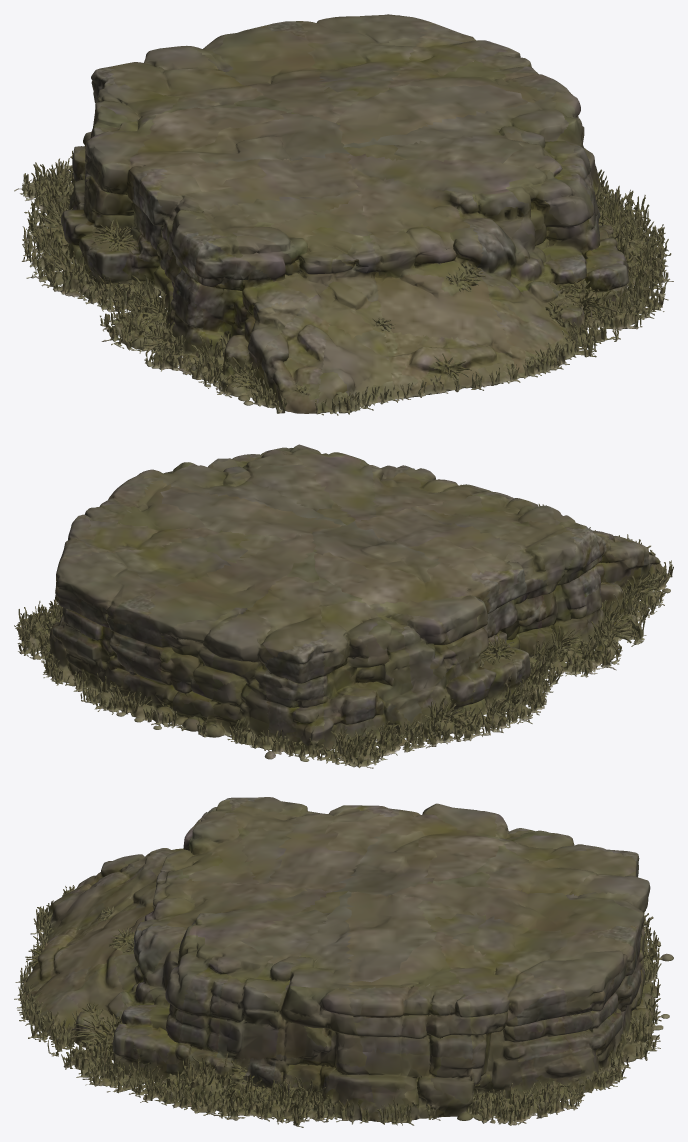
The model's file is Meshy_AI_rocky_ledge_0823030557_image-to-3d-texture.glb.
The picture shows the model from 3 angles, top to bottom: view 1: azimuth 30°, elevation 25°; view 2: azimuth 150°, elevation 25°; view 3: azimuth 270°, elevation 25°; orthographic projection. The views are drawn at different scales.
Visible parts, largest first — view 1: mesh_node; view 2: mesh_node; view 3: mesh_node.
Part boxes in pixels (bbox=[...]): mesh_node: bbox=[14, 14, 673, 415]; mesh_node: bbox=[14, 444, 673, 768]; mesh_node: bbox=[14, 797, 673, 1127].
Size of the model in its own units: 1.75 by 0.3647 by 1.9.
Materials: 1 (1 with a texture image).
